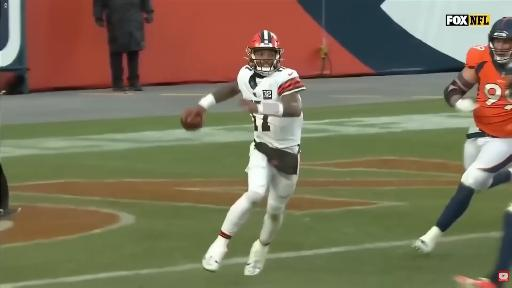Helmet: (246, 30, 283, 75), (488, 17, 512, 63)
Jersey: (466, 46, 511, 137), (237, 66, 305, 103)
Player: (196, 30, 305, 275), (414, 18, 511, 253), (456, 203, 511, 287)
